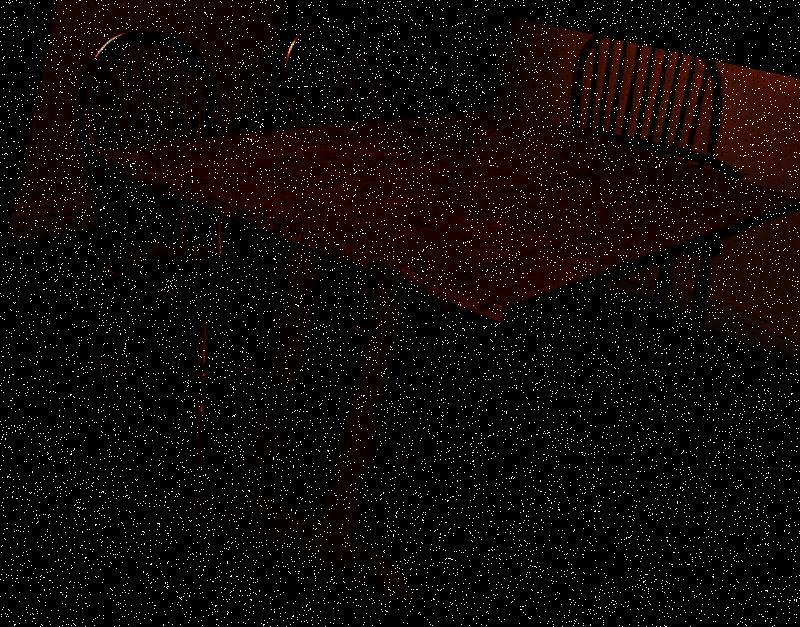Mesa: (0, 13, 799, 626)
Silla: (0, 5, 413, 557), (214, 9, 545, 431), (508, 31, 771, 398)
